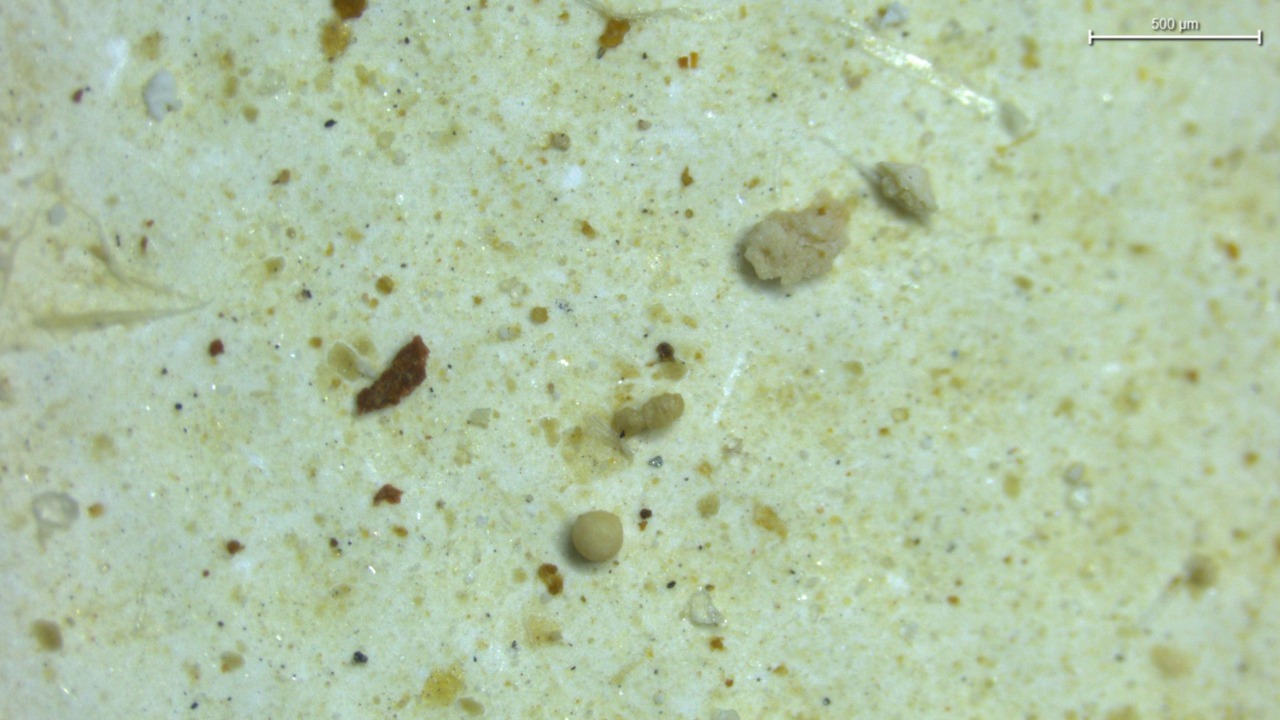microplastic_fragment: (741, 206, 847, 286), (877, 162, 936, 216), (612, 394, 684, 437), (571, 511, 623, 562), (143, 70, 182, 121)
